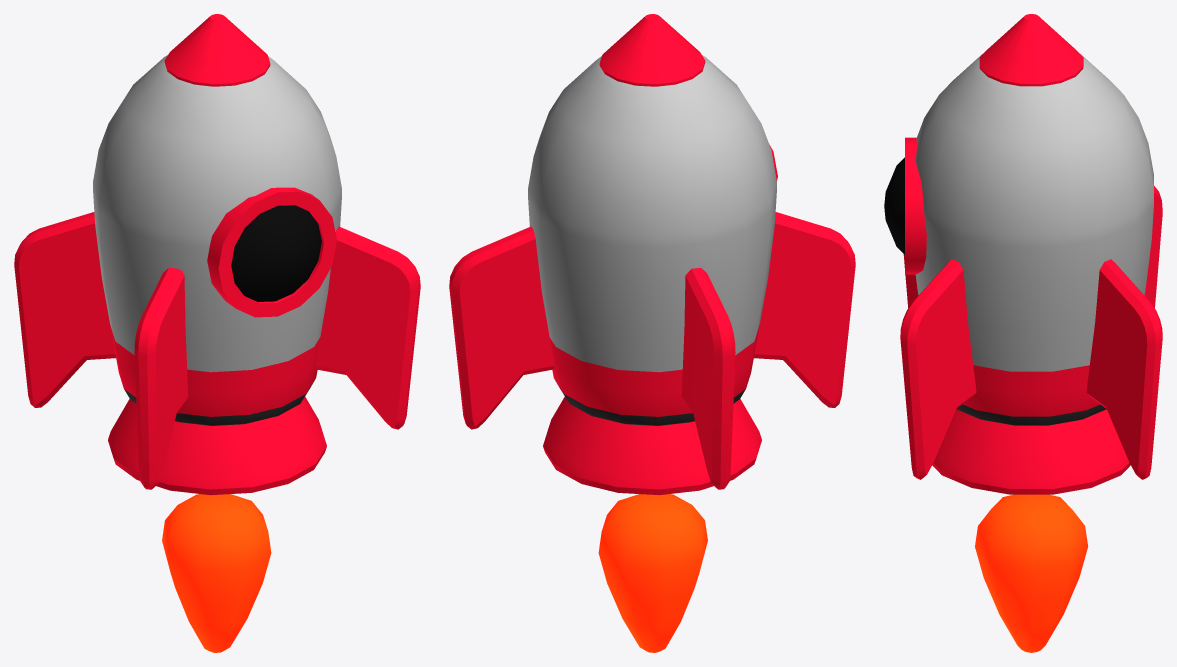
File: Roket_l.fbx
3 views of the same model, side by side, from view 1: azimuth 30°, elevation 25°; view 2: azimuth 150°, elevation 25°; view 3: azimuth 270°, elevation 25° (orthographic).
Parts seen in each view (by area): view 1: Cylinder.004, Circle.047; view 2: Cylinder.004, Circle.047; view 3: Cylinder.004, Circle.047.
Boxes of the visible parts, box(x1,y1,x2,y2) form: Cylinder.004: box(14, 14, 420, 495); Circle.047: box(162, 494, 271, 652); Cylinder.004: box(449, 14, 855, 495); Circle.047: box(598, 494, 707, 652); Cylinder.004: box(884, 14, 1162, 494); Circle.047: box(975, 494, 1088, 652).
Size of the model in its own units: 108 by 92.28 by 232.
